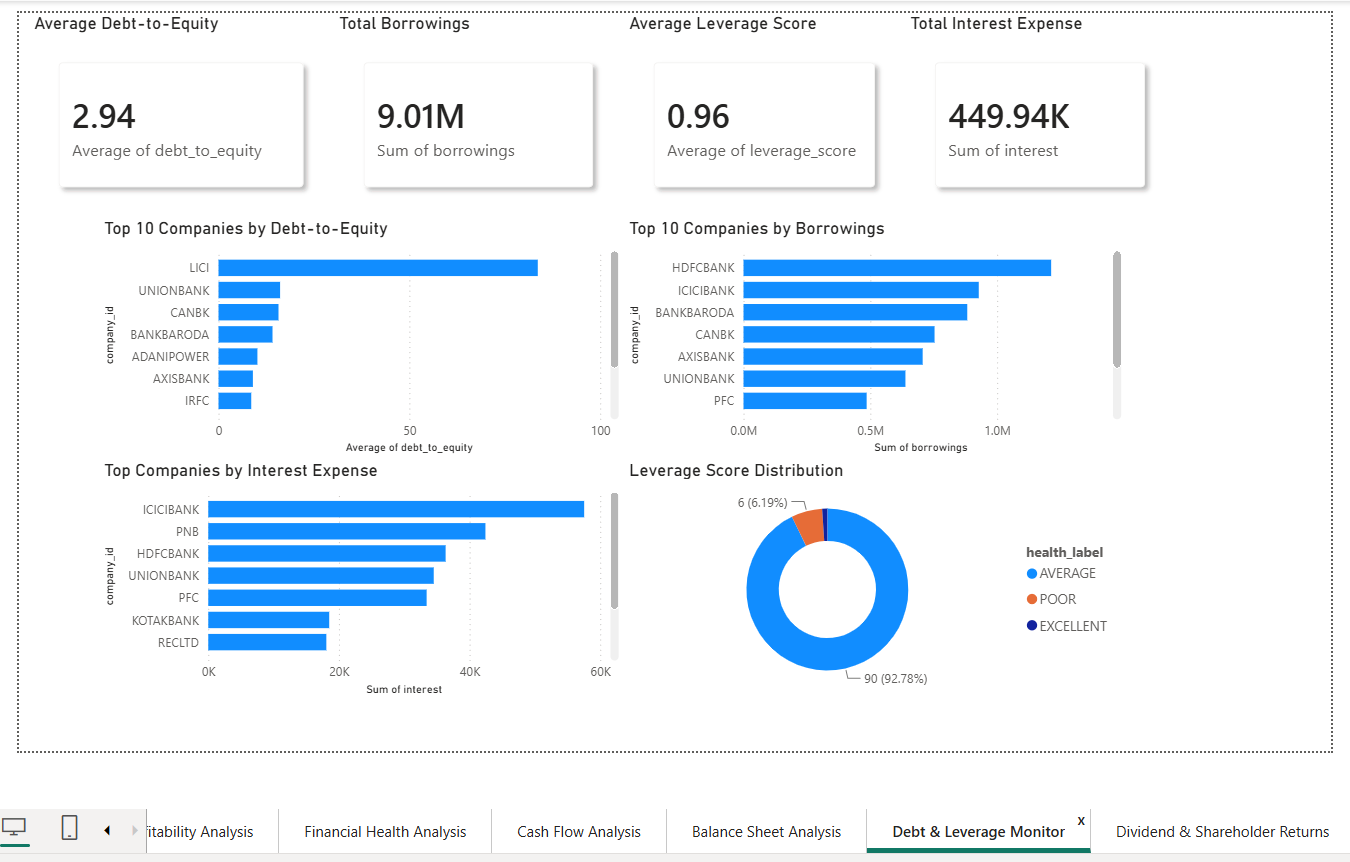

This screenshot's page, from the dashboard's own definition file:
{"tool":"powerbi","page":{"name":"Debt & Leverage Monitor","canvas":[1280,720],"ordinal":5},"visuals":[{"type":"cardVisual","title":"Average Debt-to-Equity","fields":{"Data":["Avg(company_health_scores.debt_to_equity)"]},"box":[9.8,0,297.6,200],"z":0},{"type":"cardVisual","title":"Total Borrowings","fields":{"Data":["Sum(company_health_scores.borrowings)"]},"box":[307.3,0,282.9,200],"z":1},{"type":"cardVisual","title":"Average Leverage Score","fields":{"Data":["Avg(company_health_scores.leverage_score)"]},"box":[590.2,0,274.4,200],"z":2},{"type":"cardVisual","title":"Total Interest Expense","fields":{"Data":["Sum(company_health_scores.interest)"]},"box":[864.6,0,263.4,200],"z":3},{"type":"clusteredBarChart","title":"Top 10 Companies by Debt-to-Equity","fields":{"Category":["company_health_scores.company_id"],"Y":["Avg(company_health_scores.debt_to_equity)"]},"box":[78,200,512.2,235.4],"z":4},{"type":"clusteredBarChart","title":"Top 10 Companies by Borrowings","fields":{"Category":["company_health_scores.company_id"],"Y":["Sum(company_health_scores.borrowings)"]},"box":[590.2,200,490.2,235.4],"z":5},{"type":"clusteredBarChart","title":"Top Companies by Interest Expense","fields":{"Category":["company_health_scores.company_id"],"Y":["Sum(company_health_scores.interest)"]},"box":[78,435.4,512.2,235.4],"z":6},{"type":"donutChart","title":"Leverage Score Distribution","fields":{"Category":["company_health_scores.health_label"],"Y":["Count(company_health_scores.company_id)"]},"box":[590.2,435.4,490.2,235.4],"z":7}]}

Visuals, with their boxes on the page's 1280x720 design canvas (x1, y1, x2, y2). These are canvas units, not pixel positions in the 1350x862 screenshot, which may show the page scaled, cropped or inside an application window:
"Average Debt-to-Equity" cardVisual: 10:0:307:200
"Total Borrowings" cardVisual: 307:0:590:200
"Average Leverage Score" cardVisual: 590:0:865:200
"Total Interest Expense" cardVisual: 865:0:1128:200
"Top 10 Companies by Debt-to-Equity" clusteredBarChart: 78:200:590:435
"Top 10 Companies by Borrowings" clusteredBarChart: 590:200:1080:435
"Top Companies by Interest Expense" clusteredBarChart: 78:435:590:671
"Leverage Score Distribution" donutChart: 590:435:1080:671
